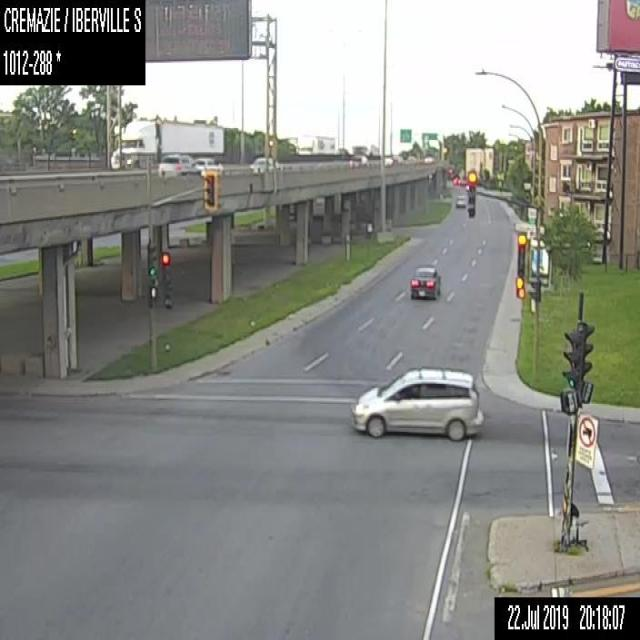vehicle: (351, 364, 484, 440), (110, 117, 225, 171), (409, 264, 441, 299), (158, 153, 196, 178), (195, 156, 224, 175), (249, 156, 278, 173), (348, 153, 370, 168), (455, 195, 465, 208), (383, 157, 392, 166), (406, 155, 415, 164), (424, 155, 434, 163), (452, 176, 459, 184)
